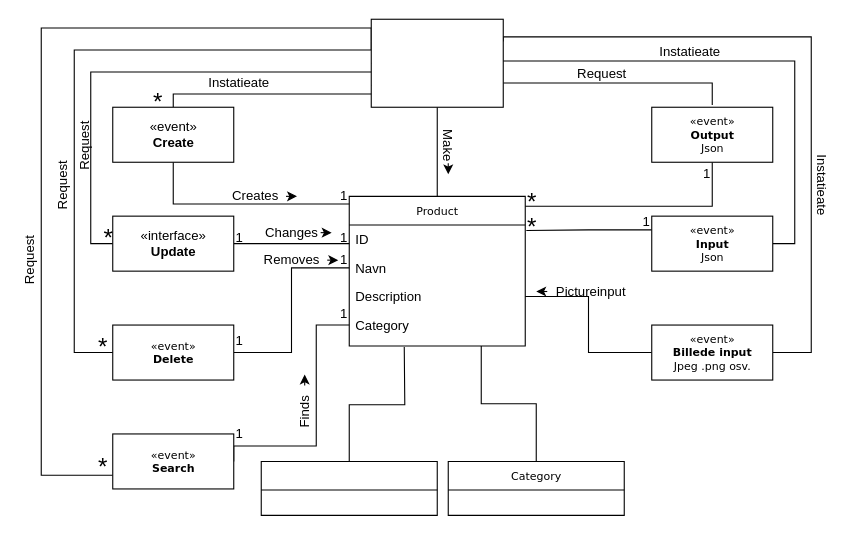
Image size: 851x535. Some labels were removed from this diagram. Here are the shapes that lost their labels. From the top down, the centre of each, then its label:
At point 436,62: "User".
At point 348,487: "Product Attributes".
